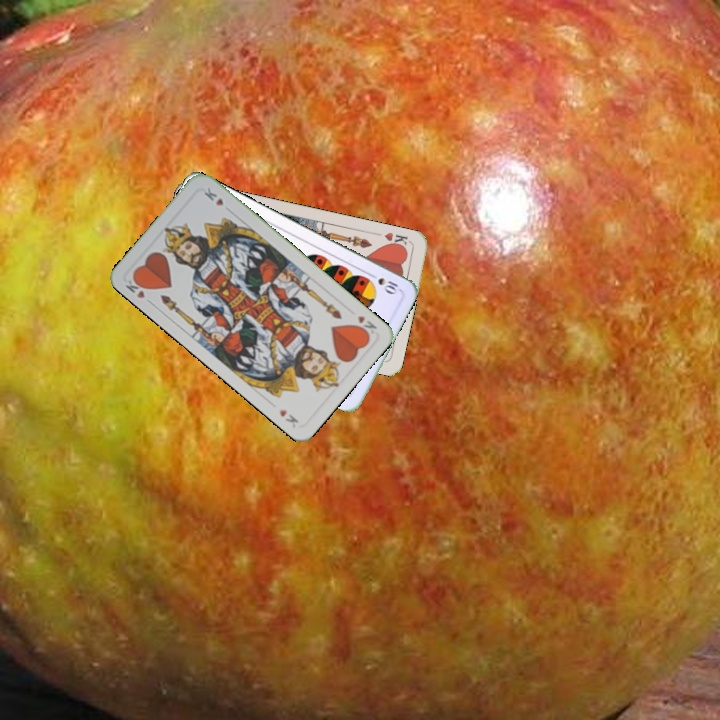HK: (122, 273, 156, 307), (351, 311, 380, 339), (380, 228, 413, 251)
S10: (365, 269, 401, 297)
